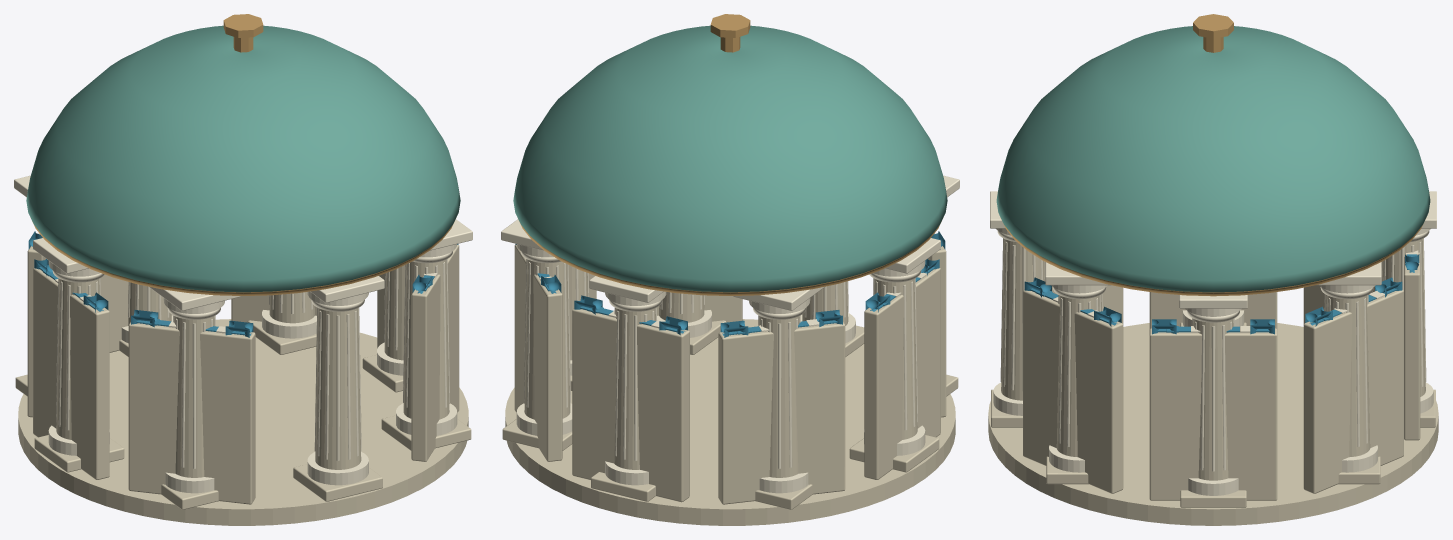
The model's file is fantasy-bathhouse-and-thermal-sanctuary-fantasy-bathho-40c74dd8__29433.glb.
3 renders of one model, left to right at view 1: azimuth 30°, elevation 25°; view 2: azimuth 150°, elevation 25°; view 3: azimuth 270°, elevation 25°, orthographic.
Parts seen in each view (by area): view 1: fantasy-bathhouse-and-thermal-sanctuary-domed-steam-pavilion (×5); view 2: fantasy-bathhouse-and-thermal-sanctuary-domed-steam-pavilion (×5); view 3: fantasy-bathhouse-and-thermal-sanctuary-domed-steam-pavilion (×5).
Part boxes in pixels (x1,y1,x2,y2): fantasy-bathhouse-and-thermal-sanctuary-domed-steam-pavilion (×5): (14, 14, 472, 525); fantasy-bathhouse-and-thermal-sanctuary-domed-steam-pavilion (×5): (501, 14, 959, 525); fantasy-bathhouse-and-thermal-sanctuary-domed-steam-pavilion (×5): (988, 14, 1438, 525).
Size of the model in its own units: 4.4 by 4.4 by 4.4.
